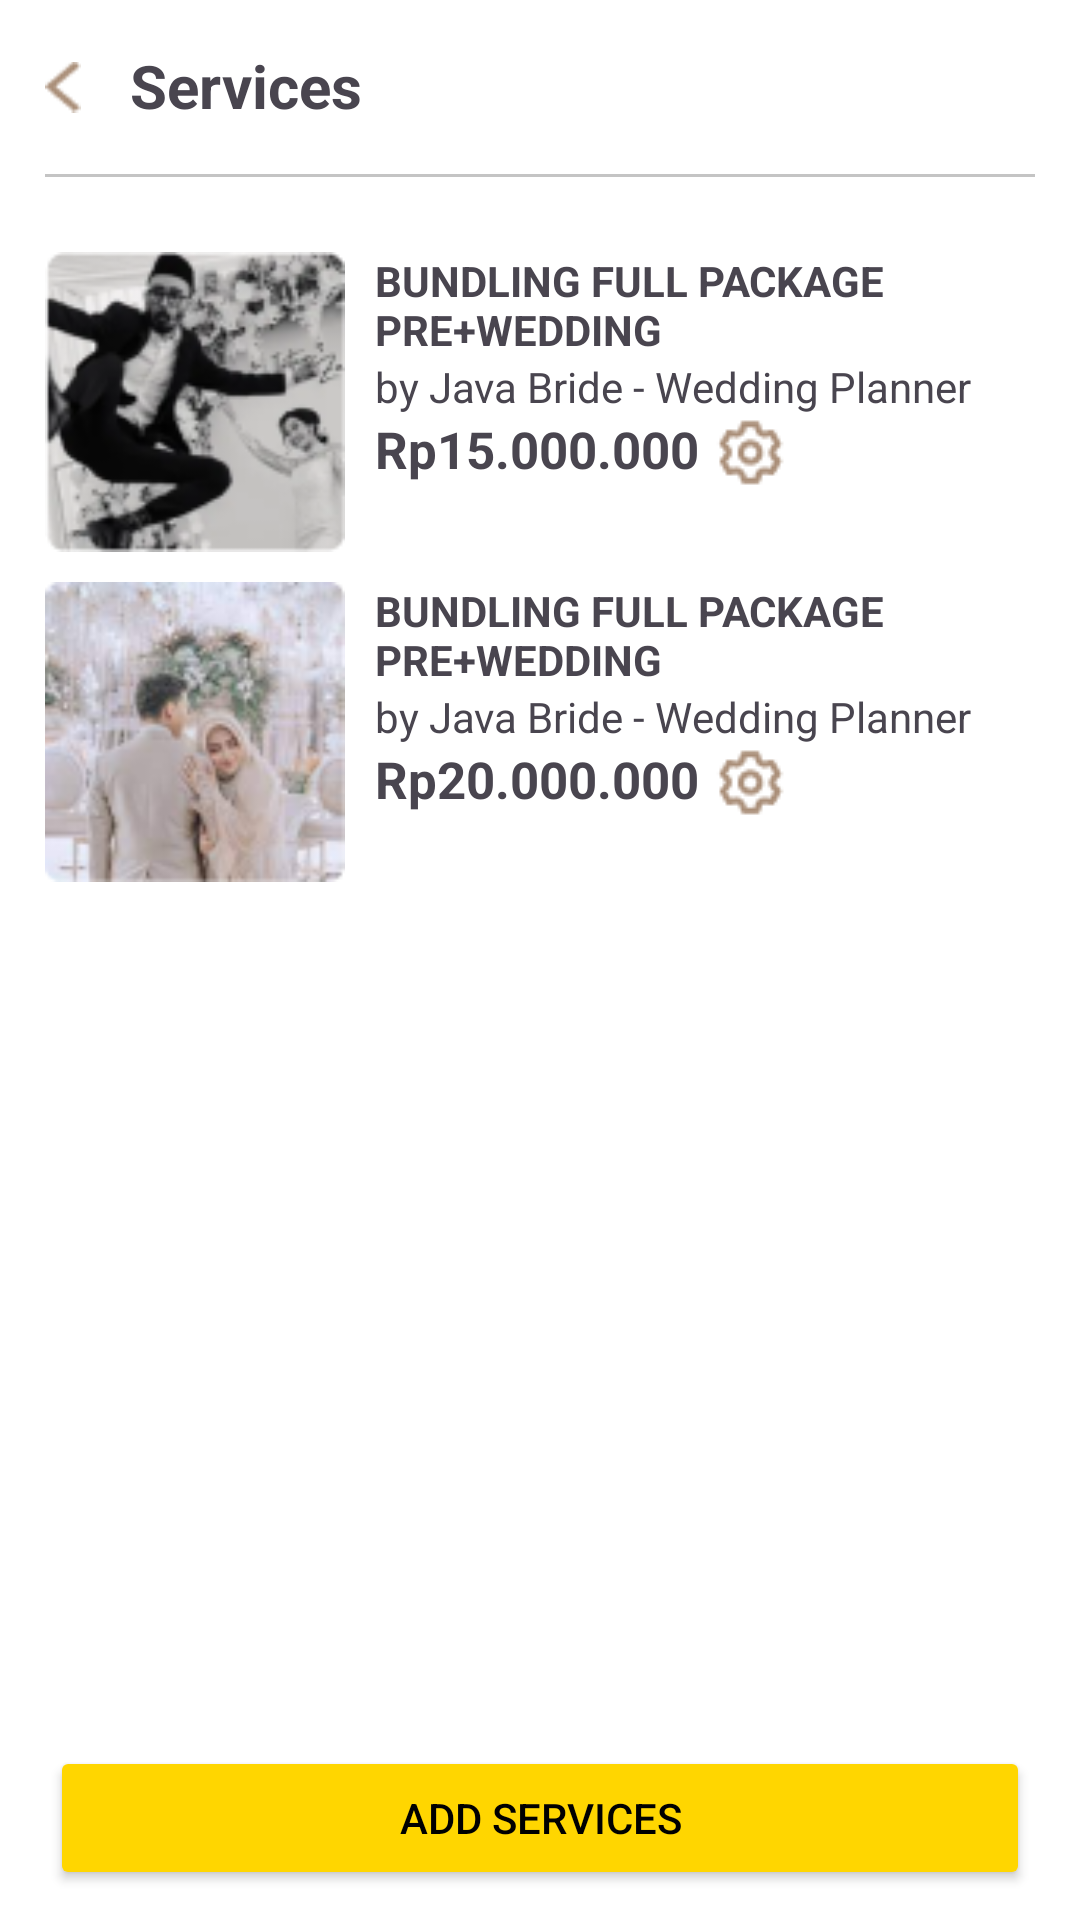

Icon click points for this 1080*1920 phone screenshot, format (x,y):
back arrow: (63,87)
Setting: (751,452), (751,782)
